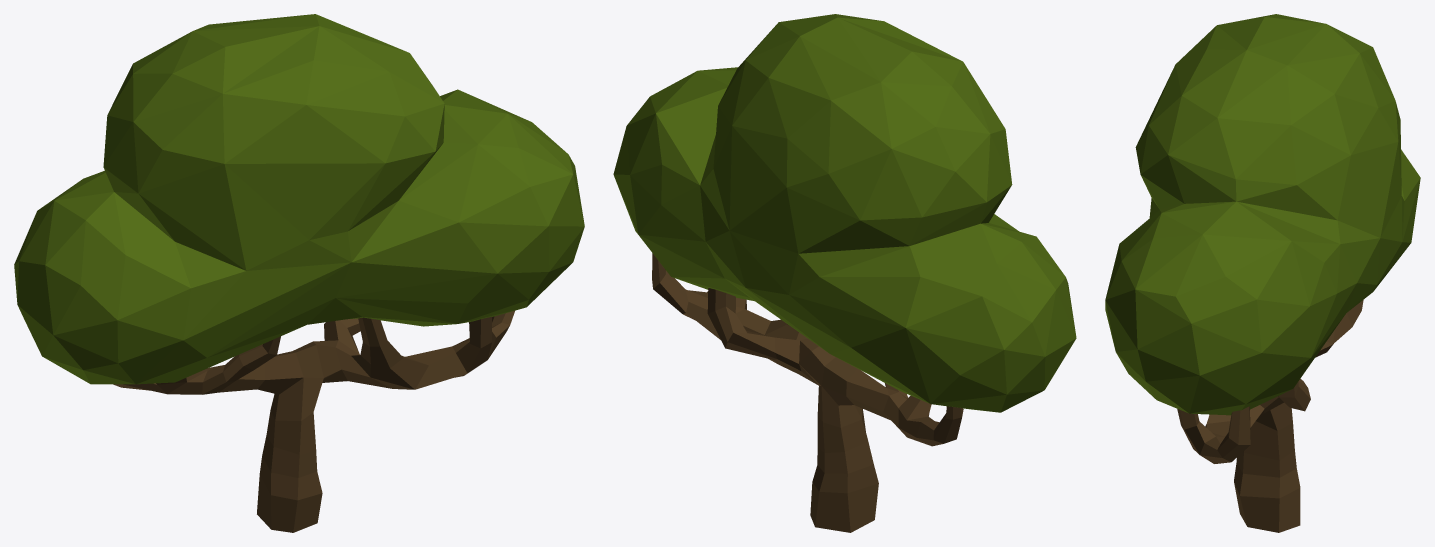
Rendered from TreesAndBushes_079.fbx.
3 renders of one model, left to right at view 1: azimuth 30°, elevation 25°; view 2: azimuth 150°, elevation 25°; view 3: azimuth 270°, elevation 25°, orthographic. The views are drawn at different scales.
Parts seen in each view (by area): view 1: TreesAndBushes_079; view 2: TreesAndBushes_079; view 3: TreesAndBushes_079.
Part boxes in pixels (x1=…): TreesAndBushes_079: x1=14, y1=14, x2=584, y2=532; TreesAndBushes_079: x1=613, y1=14, x2=1076, y2=532; TreesAndBushes_079: x1=1105, y1=14, x2=1420, y2=532.
Bounding box in the file's own units: 246 × 240 × 143.
